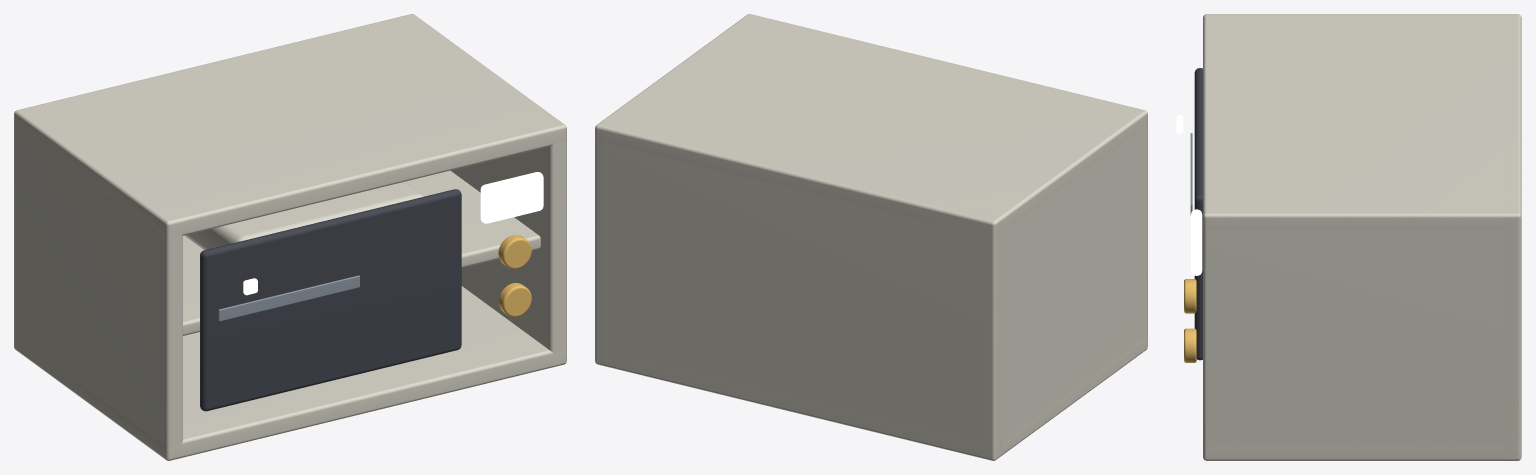
Rendered from kitchenMicrowave.glb.
3 renders of one model, left to right at view 1: azimuth 30°, elevation 25°; view 2: azimuth 150°, elevation 25°; view 3: azimuth 270°, elevation 25°, orthographic. The views are drawn at different scales.
Visible parts, largest first — view 1: Storage inner floor.001, Microwave glass, Storage inner side, Storage inner floor, Storage inner side.001, Storage interior shelf, Stored folded linen, Digital clock, Glass reflection, Microwave dial.001, Microwave dial; view 2: Storage inner back, Storage inner floor.001, Storage inner side, Storage inner floor, Storage inner side.001; view 3: Storage inner side.001, Storage inner floor.001, Storage inner back, Storage inner floor, Microwave glass, Digital clock, Microwave dial.001, Microwave dial.
Part boxes in pixels (<box>): Storage inner floor.001: <box>15,14,566,236</box>; Microwave glass: <box>200,189,461,411</box>; Storage inner side: <box>14,111,182,460</box>; Storage inner floor: <box>15,286,566,460</box>; Storage inner side.001: <box>450,83,566,365</box>; Storage interior shelf: <box>183,170,540,335</box>; Stored folded linen: <box>184,181,424,250</box>; Digital clock: <box>480,172,543,223</box>; Glass reflection: <box>218,275,359,321</box>; Microwave dial.001: <box>498,235,531,268</box>; Microwave dial: <box>498,283,531,316</box>; Storage inner back: <box>596,127,1002,460</box>; Storage inner floor.001: <box>595,14,1147,236</box>; Storage inner side: <box>980,111,1147,460</box>; Storage inner floor: <box>596,336,1147,459</box>; Storage inner side.001: <box>595,126,608,367</box>; Storage inner side.001: <box>1203,214,1521,460</box>; Storage inner floor.001: <box>1203,14,1521,229</box>; Storage inner back: <box>1504,16,1521,460</box>; Storage inner floor: <box>1203,446,1520,460</box>; Microwave glass: <box>1194,68,1202,360</box>; Digital clock: <box>1191,209,1202,275</box>; Microwave dial.001: <box>1184,279,1196,313</box>; Microwave dial: <box>1184,328,1196,362</box>.
Bounding box in the file's own units: 1.05 × 0.61 × 0.7585.
